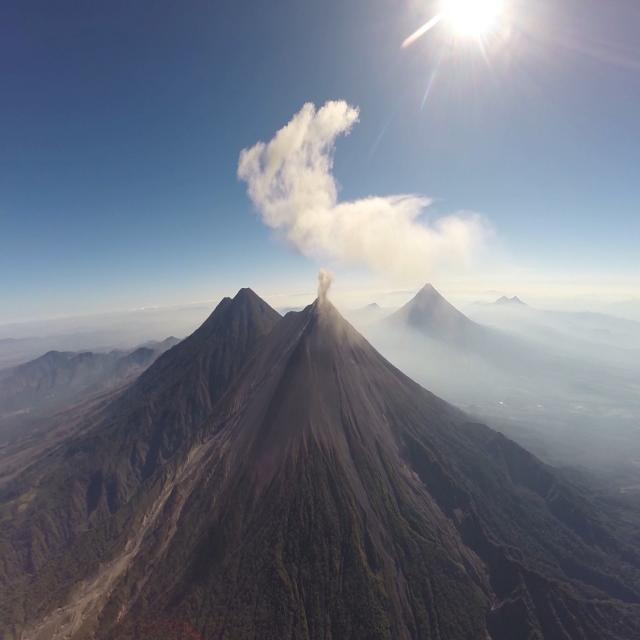Plume: (237, 92, 488, 290), (316, 266, 334, 302)
Summit: (312, 293, 333, 306)
